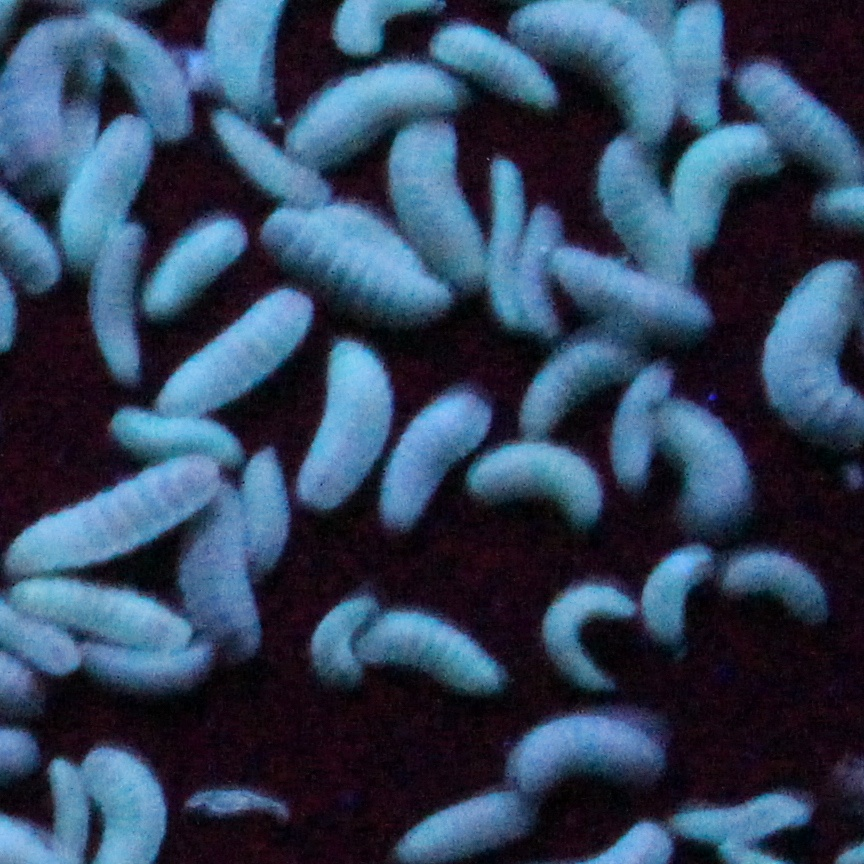larve: (17, 456, 213, 573), (292, 72, 453, 182), (544, 2, 671, 141), (270, 225, 438, 321), (387, 130, 493, 281), (180, 302, 316, 416), (553, 251, 713, 344), (8, 578, 198, 653), (597, 132, 689, 281), (309, 352, 394, 510), (91, 15, 199, 138), (390, 386, 485, 520), (528, 580, 634, 687), (68, 121, 152, 252), (441, 20, 554, 110), (502, 723, 662, 785), (479, 163, 538, 328), (155, 219, 252, 316), (222, 116, 323, 209), (671, 408, 749, 527), (363, 621, 491, 693), (400, 793, 528, 864), (520, 342, 627, 426), (757, 76, 854, 166), (683, 132, 767, 230), (489, 443, 593, 522), (635, 551, 713, 651), (516, 197, 572, 334), (723, 546, 832, 613), (613, 365, 672, 479), (669, 0, 721, 128), (101, 227, 142, 382), (674, 801, 815, 841), (107, 415, 241, 457), (240, 461, 296, 557), (310, 603, 362, 679)
